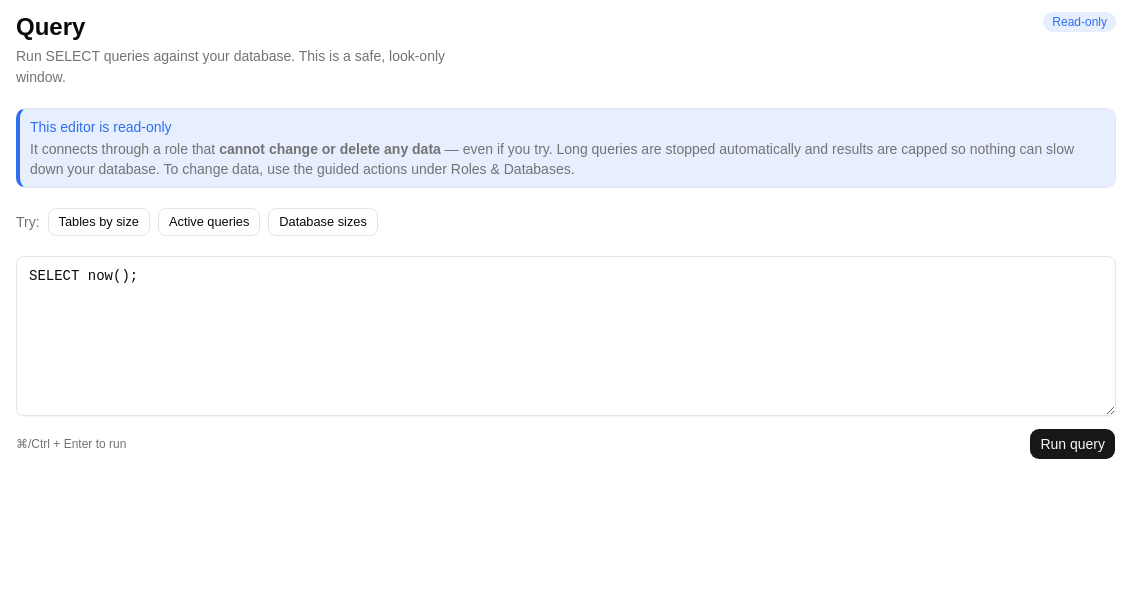
Scenario: Query › surfaces the auto-LIMIT safety messaging when results are capped
Step 1. Click the button "Run query" → (1073, 444), box [1029,428,1116,460]
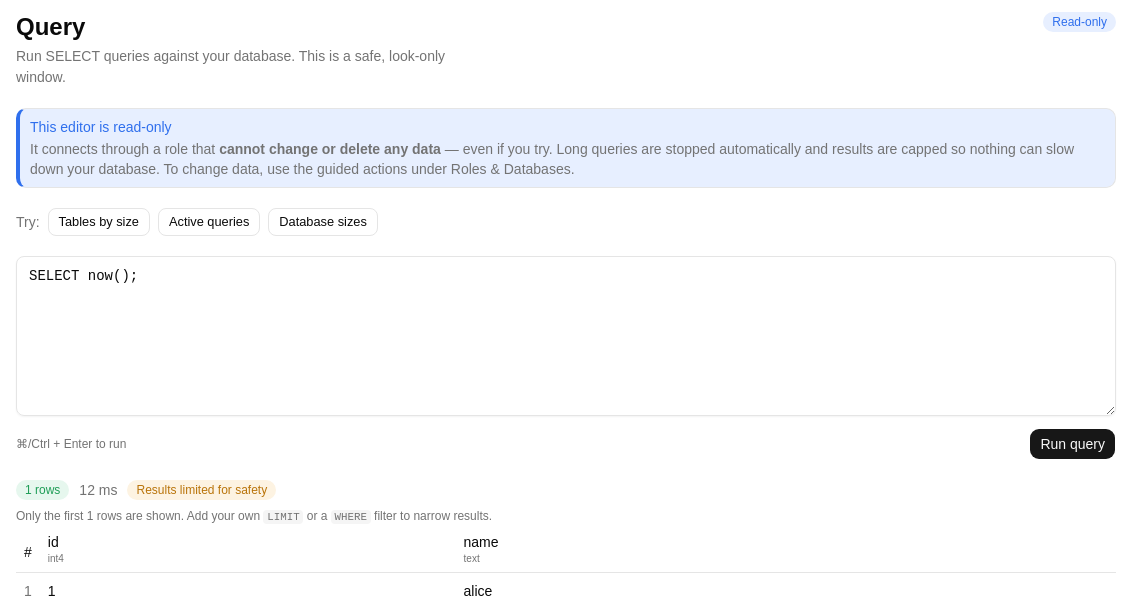
Result: the text "Results limited for safety" is shown at [128,480,276,500]
Result: the text "Only the first" is shown at [16,509,87,523]
